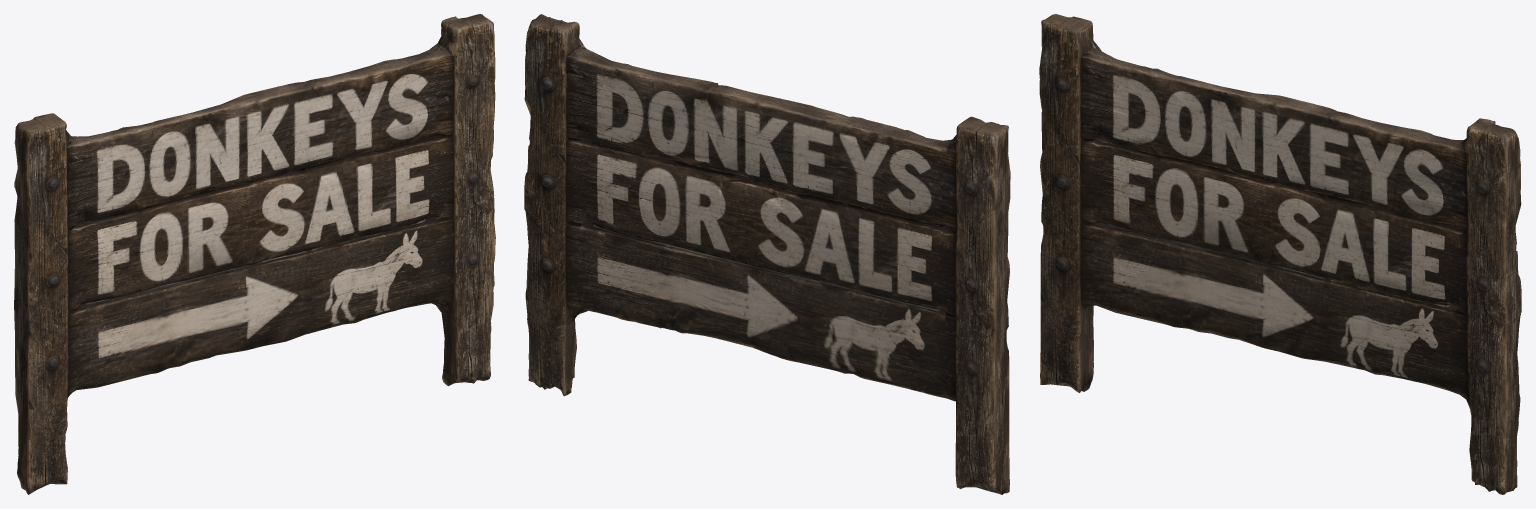
File: donkeys.glb
3 views of the same model, side by side, from view 1: azimuth 30°, elevation 25°; view 2: azimuth 150°, elevation 25°; view 3: azimuth 330°, elevation 25° (orthographic).
Visible parts, largest first — view 1: output_unwrapped; view 2: output_unwrapped; view 3: output_unwrapped.
Part boxes in pixels (left/top/right/bottom): output_unwrapped: left=14, top=14, right=495, bottom=494; output_unwrapped: left=524, top=14, right=1010, bottom=494; output_unwrapped: left=1039, top=14, right=1521, bottom=494.
Size of the model in its own units: 20.2 by 15 by 1.4.
Materials: 1 (1 with a texture image).
